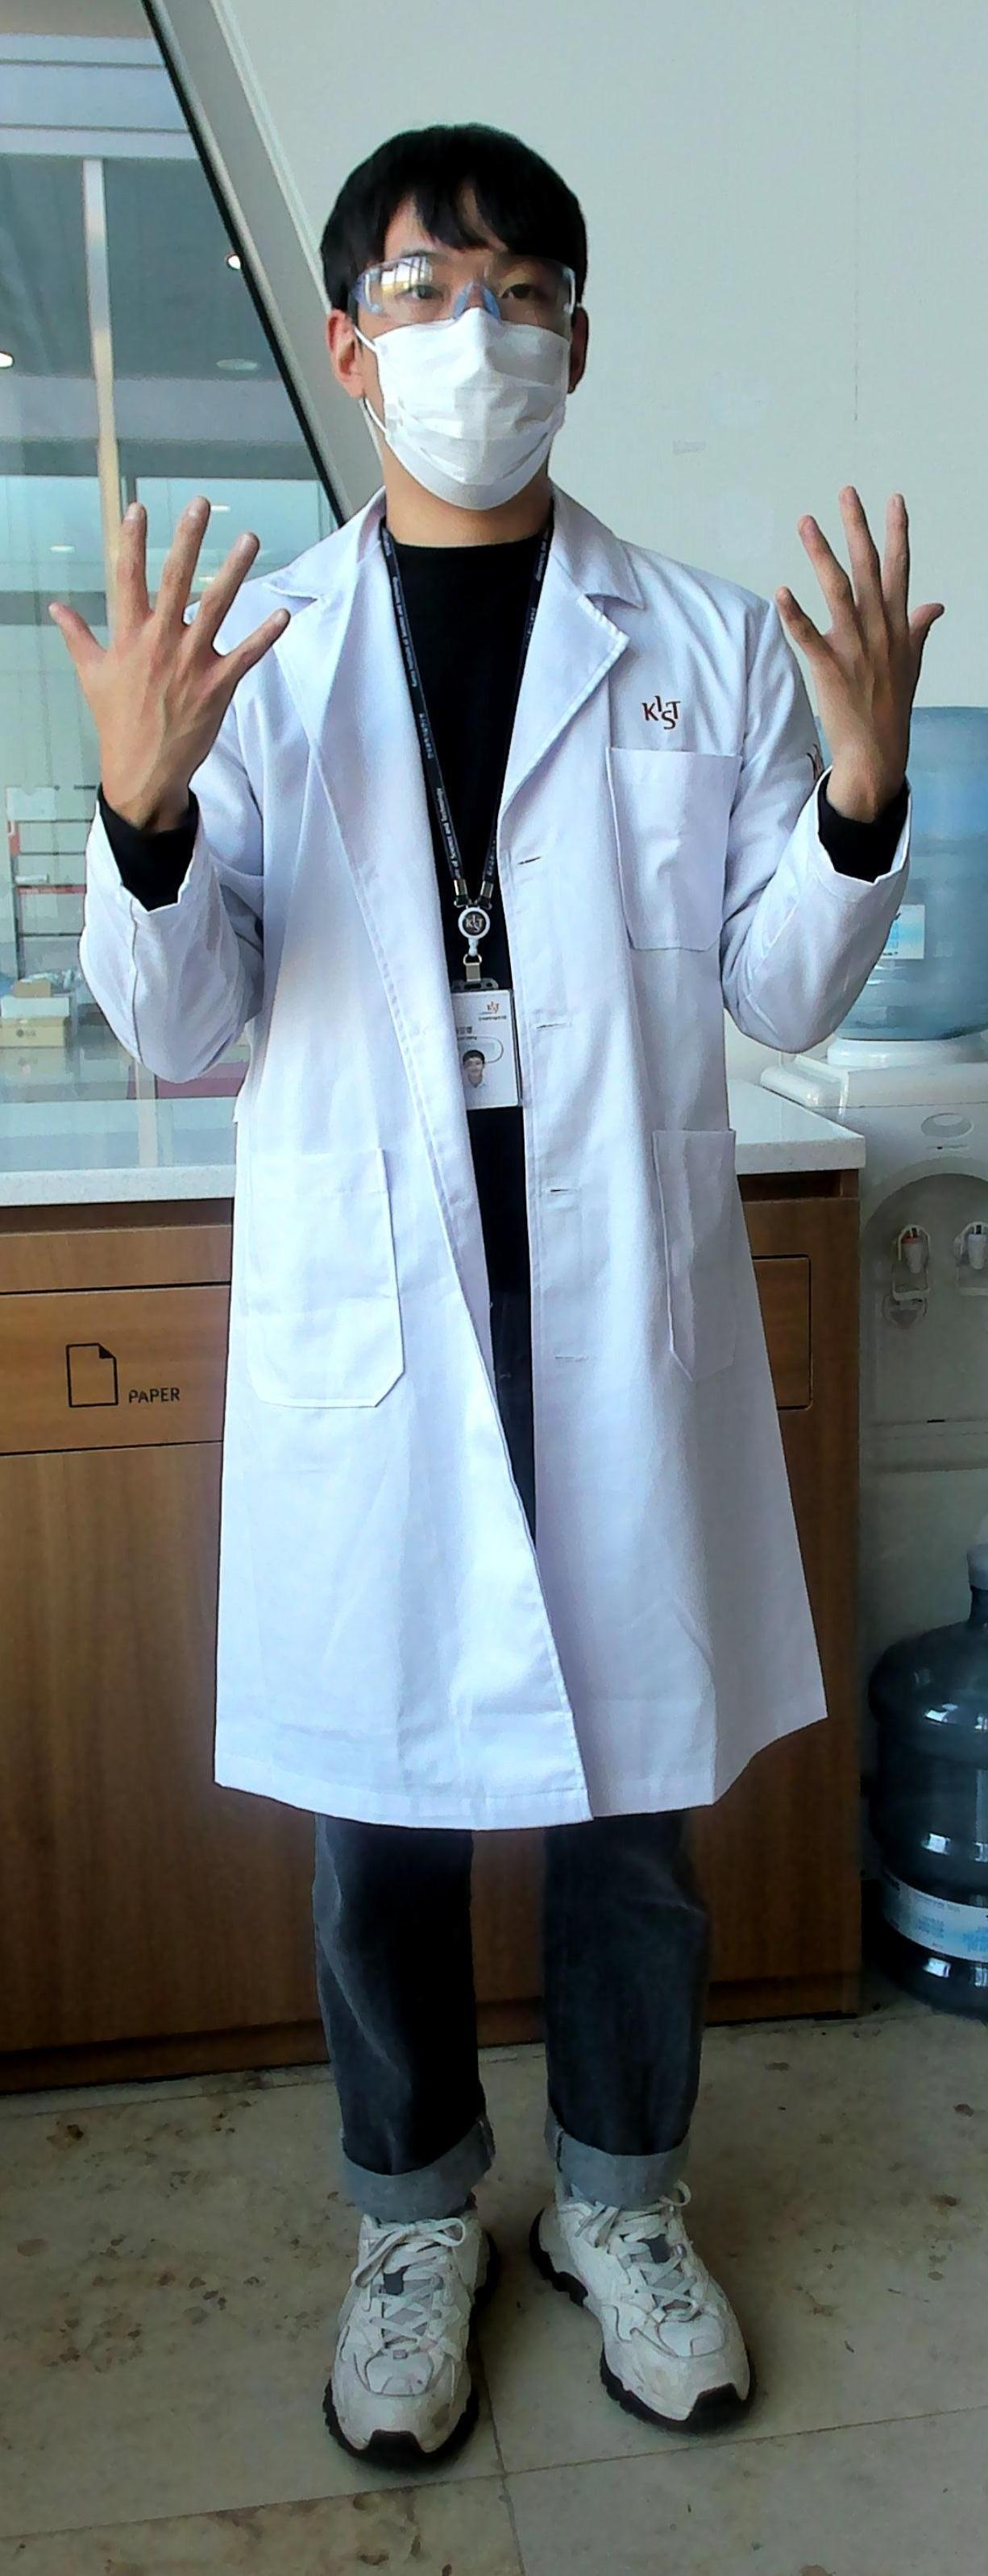lab_coat: (233, 582, 766, 1845)
